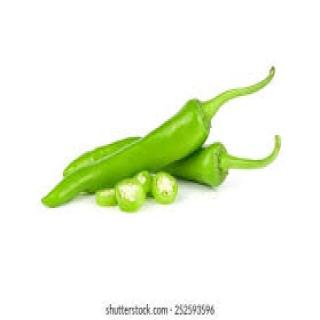Cabai Hijau: (40, 97, 214, 211)
